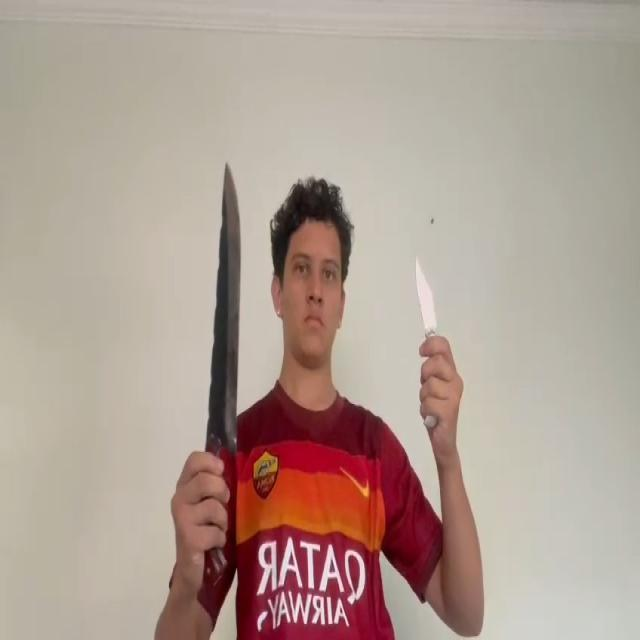knife: (206, 159, 245, 438), (415, 258, 435, 330)
